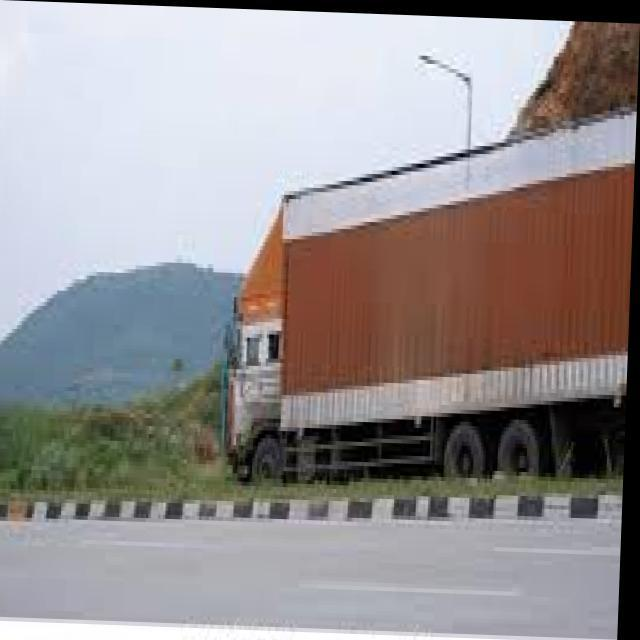covered: (224, 75, 638, 491)
